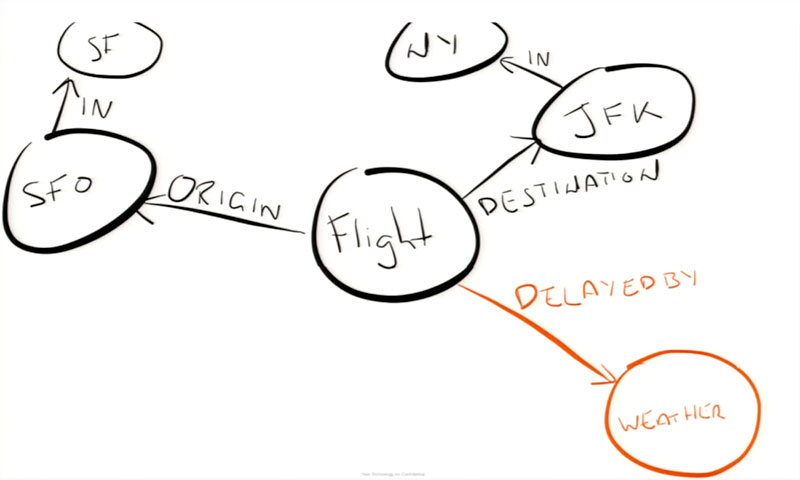circle: (309, 163, 482, 307), (602, 347, 765, 480), (1, 126, 159, 257), (529, 62, 697, 163), (382, 18, 509, 83), (55, 15, 166, 81)
line: (454, 281, 619, 391), (134, 193, 308, 242), (459, 131, 544, 206), (499, 53, 566, 96), (49, 77, 81, 137)
